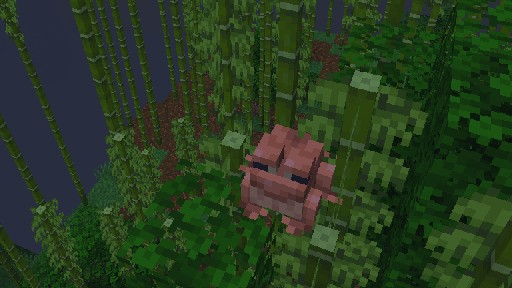frog: (237, 122, 347, 236)
